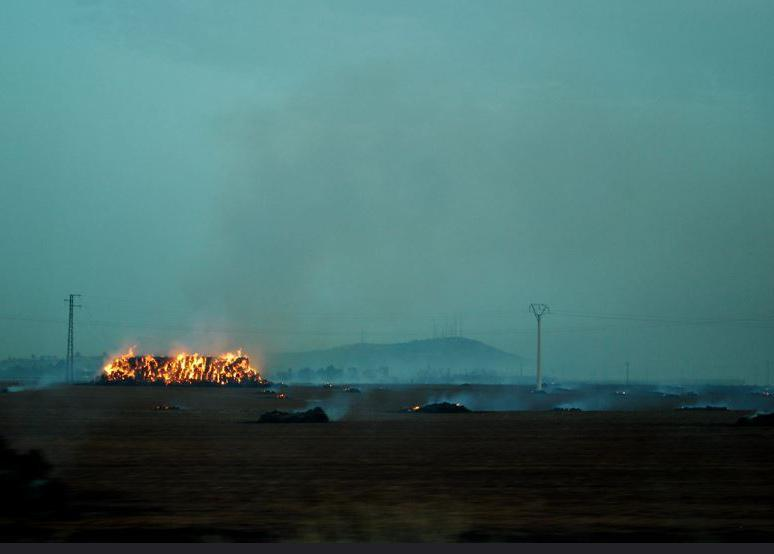Fire: (103, 347, 265, 391)
